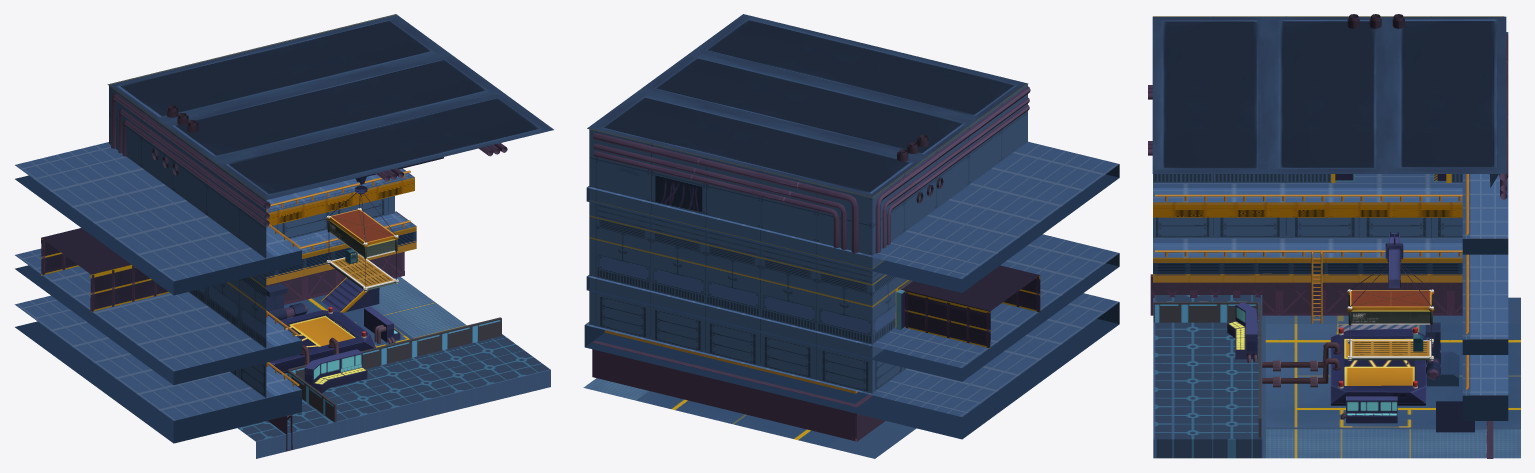
Rendered from Factory.fbx.
The picture shows the model from 3 angles, left to right: view 1: azimuth 30°, elevation 25°; view 2: azimuth 150°, elevation 25°; view 3: azimuth 270°, elevation 25°; orthographic projection. The views are drawn at different scales.
Visible parts, largest first — view 1: Cylinder001; view 2: Cylinder001; view 3: Cylinder001.
Boxes of the visible parts, x1,y1,x2,y2 form: Cylinder001: (14,14,553,458); Cylinder001: (583,14,1119,458); Cylinder001: (1148,14,1520,458).
Size of the model in its own units: 134 by 90.12 by 101.
